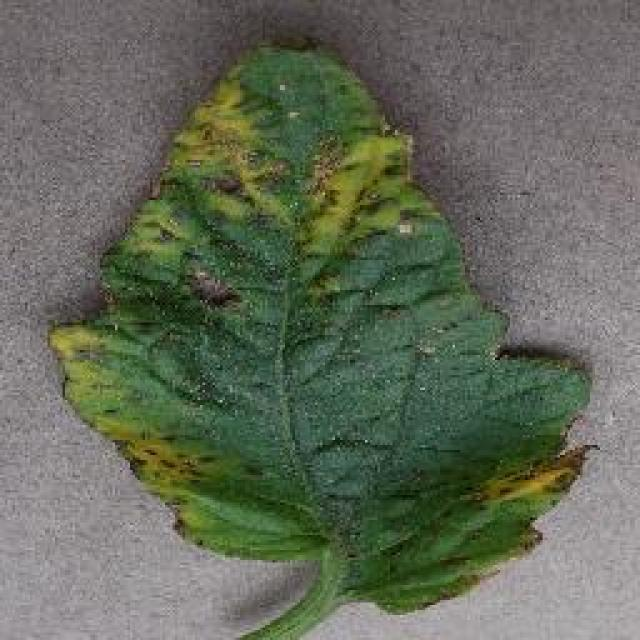Tomato___Bacterial_spot: (43, 33, 599, 638)
